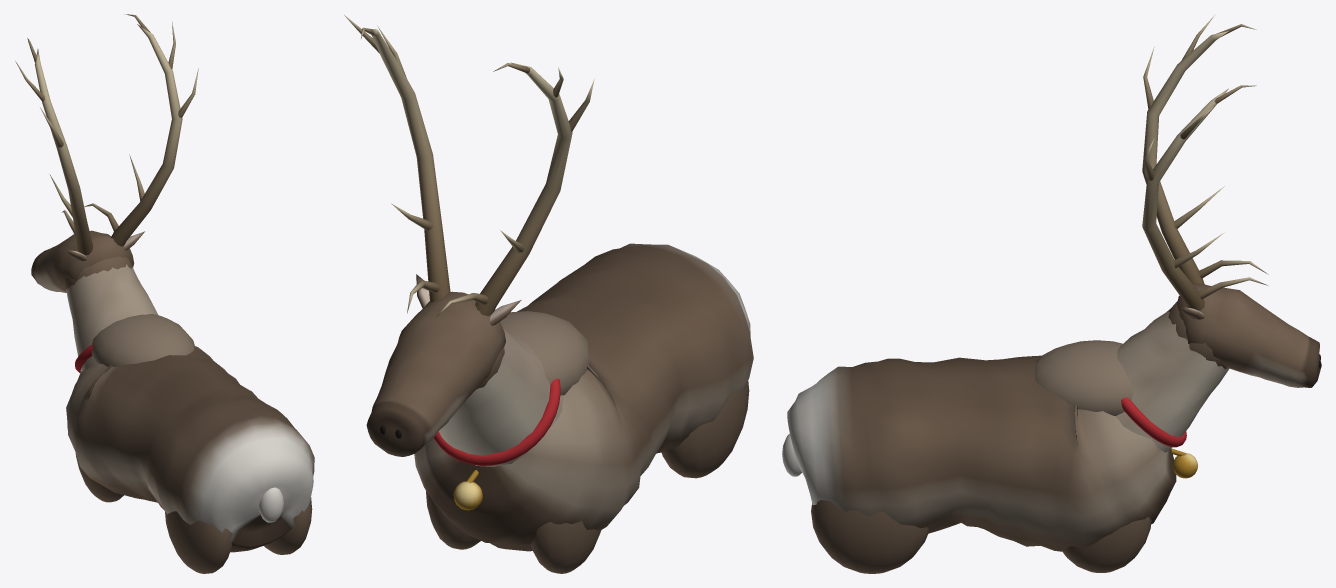
File: Tonakai.fbx
The picture shows the model from 3 angles, left to right: view 1: azimuth 30°, elevation 25°; view 2: azimuth 150°, elevation 25°; view 3: azimuth 270°, elevation 25°; orthographic projection. The views are drawn at different scales.
Parts seen in each view (by area): view 1: Tonakai; view 2: Tonakai; view 3: Tonakai.
Part boxes in pixels (x1,y1,x2,y2): Tonakai: (15, 14, 314, 573); Tonakai: (344, 15, 753, 573); Tonakai: (782, 14, 1321, 573).
Size of the model in its own units: 27.2 by 68.16 by 67.2.
